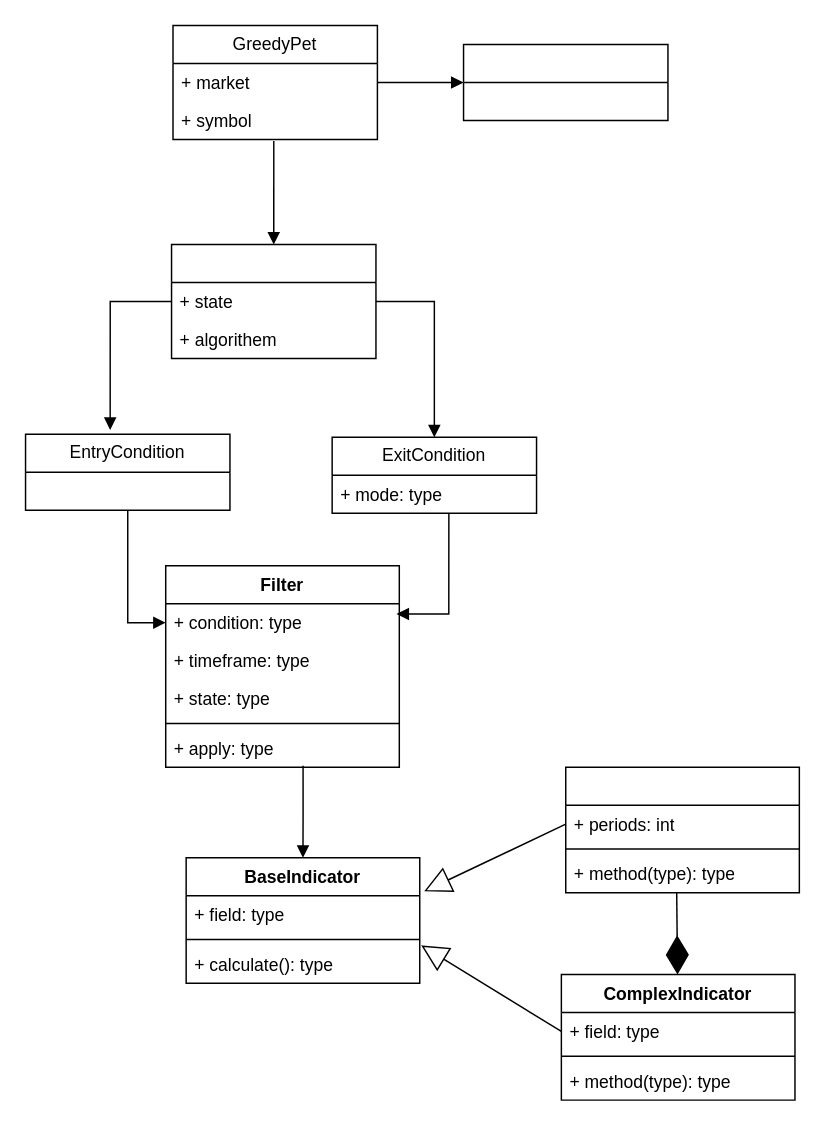
Some shapes in this 825 by 1130 pixel diagram are drawn without their labels. Each missing label, with the box of its shape:
Deal: (170, 243, 376, 358)
Excahnge: (462, 43, 668, 120)
SimpleIndicator: (564, 766, 799, 893)
